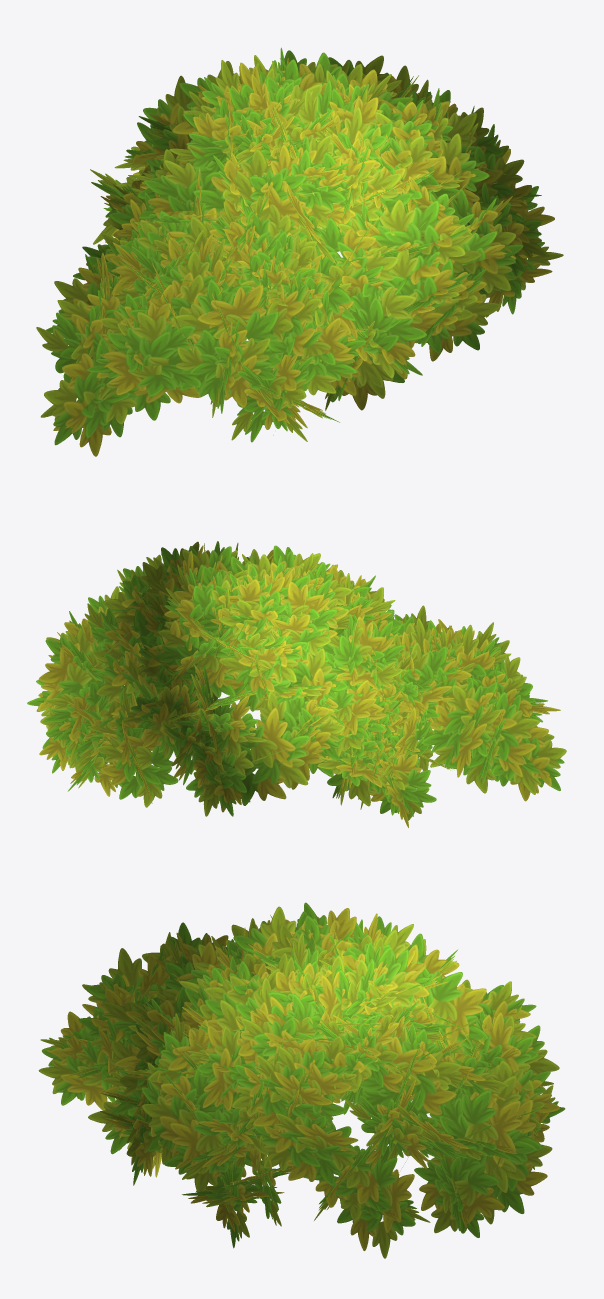
Rendered from FBX_Bush_Large_02.fbx.
3 renders of one model, top to bottom at view 1: azimuth 30°, elevation 25°; view 2: azimuth 150°, elevation 25°; view 3: azimuth 270°, elevation 25°, orthographic. The views are drawn at different scales.
Visible parts, largest first — view 1: BushBig02; view 2: BushBig02; view 3: BushBig02.
Boxes of the visible parts, x1,y1,x2,y2 form: BushBig02: (36,47,563,456); BushBig02: (27,541,566,827); BushBig02: (38,902,565,1258).
Size of the model in its own units: 850 by 439 by 723.
